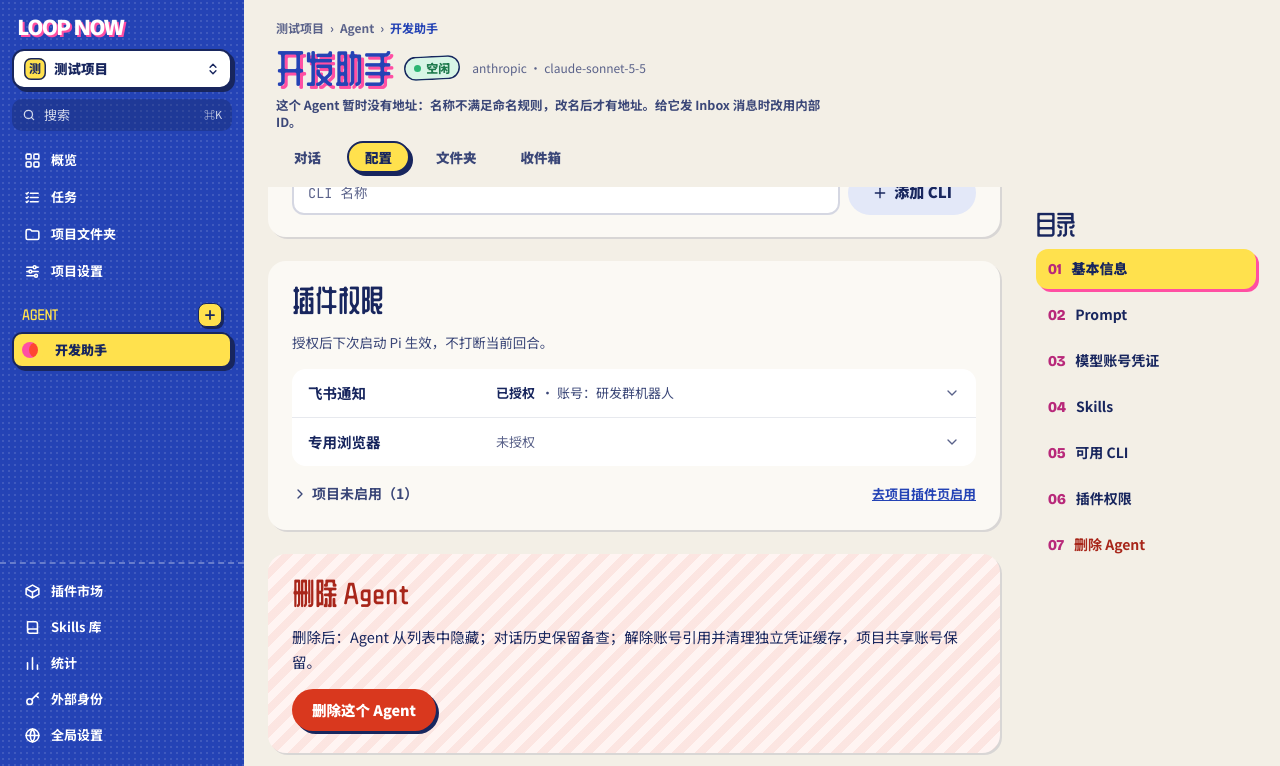
Test: Agent 配置页的插件段 › 每个可授权的插件一行，摘要写授权与选用的账号；项目未启用的收在末尾，附项目插件页入口
This screenshot has width=1280, height=766.
(page scrolled)
Expected: the button "飞书通知 已授权 · 账号：研发群机器人" is shown, [292,369,976,417]
Expected: the button "专用浏览器 未授权" is shown, [292,418,976,466]
Click the button "项目未启用（1）" at (355, 494), box [288,480,422,508]
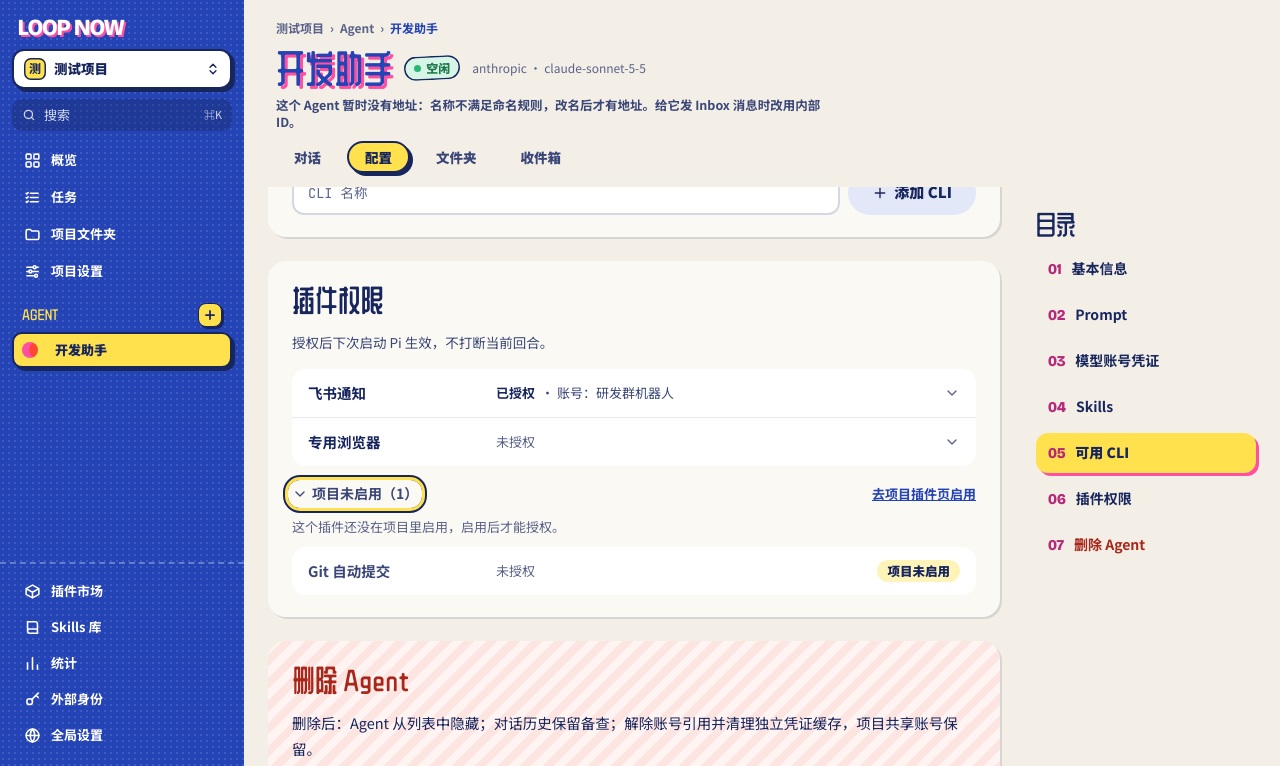
Result: the list item "Git 自动提交" shows "项目未启用" at [888,563,950,579]
